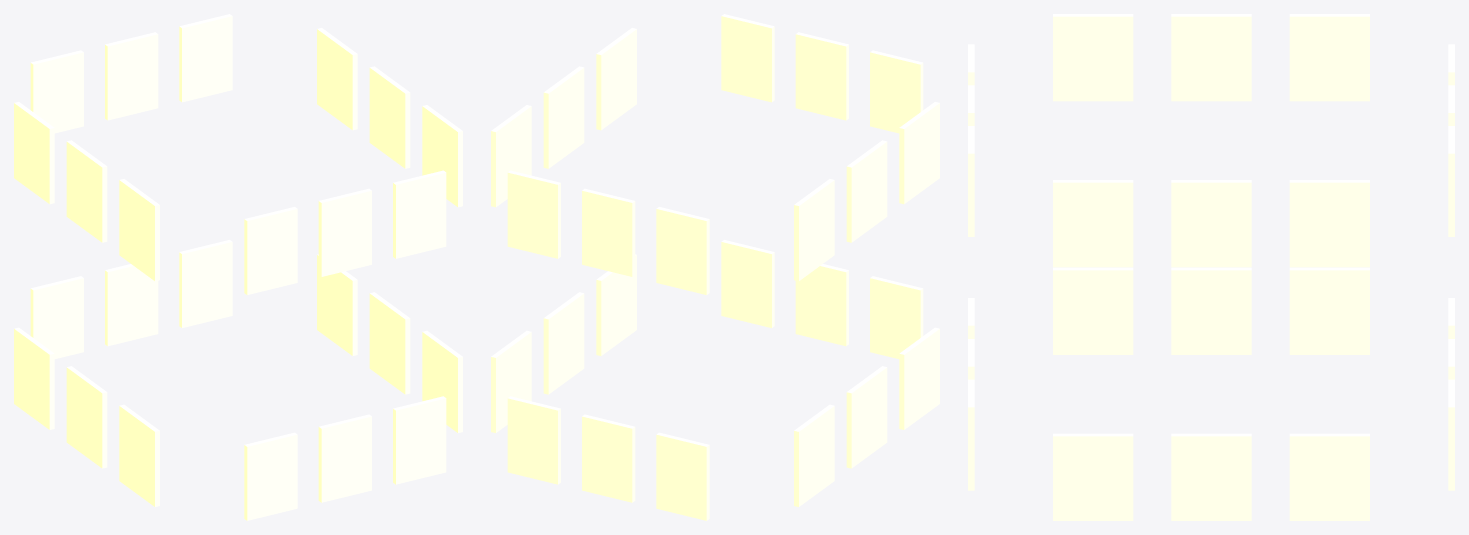
File: building-f.glb
3 renders of one model, left to right at view 1: azimuth 30°, elevation 25°; view 2: azimuth 150°, elevation 25°; view 3: azimuth 270°, elevation 25°, orthographic. The views are drawn at different scales.
Visible parts, largest first — view 1: WindowLight_back_1_2, WindowLight_front_0_0, WindowLight_front_1_2, WindowLight_back_0_2, WindowLight_front_1_0, WindowLight_front_1_1, WindowLight_back_1_1, WindowLight_front_0_1, WindowLight_front_0_2, WindowLight_back_0_1, WindowLight_back_0_0, WindowLight_back_1_0 (+12 smaller); view 2: WindowLight_back_0_0, WindowLight_back_1_2, WindowLight_front_1_2, WindowLight_back_1_0, WindowLight_back_1_1, WindowLight_front_0_2, WindowLight_back_0_1, WindowLight_back_0_2, WindowLight_front_1_1, WindowLight_front_0_1, WindowLight_front_0_0, WindowLight_front_1_0 (+12 smaller); view 3: WindowLight_left_0_1, WindowLight_left_1_1, WindowLight_right_0_1, WindowLight_right_1_1, WindowLight_left_0_0, WindowLight_left_0_2, WindowLight_left_1_0, WindowLight_left_1_2, WindowLight_right_0_0, WindowLight_right_0_2, WindowLight_right_1_0, WindowLight_right_1_2 (+4 smaller).
Part boxes in pixels (x1=…): WindowLight_back_1_2: x1=179, y1=14, x2=232, y2=102; WindowLight_front_0_0: x1=244, y1=432, x2=297, y2=520; WindowLight_front_1_2: x1=393, y1=170, x2=446, y2=258; WindowLight_back_0_2: x1=179, y1=240, x2=232, y2=327; WindowLight_front_1_0: x1=244, y1=207, x2=297, y2=294; WindowLight_front_1_1: x1=318, y1=188, x2=371, y2=276; WindowLight_back_1_1: x1=105, y1=32, x2=158, y2=120; WindowLight_front_0_1: x1=318, y1=414, x2=371, y2=502; WindowLight_front_0_2: x1=393, y1=396, x2=446, y2=484; WindowLight_back_0_1: x1=105, y1=264, x2=158, y2=346; WindowLight_back_0_0: x1=30, y1=276, x2=83, y2=358; WindowLight_back_1_0: x1=30, y1=50, x2=83, y2=133; WindowLight_back_0_0: x1=656, y1=432, x2=709, y2=520; WindowLight_back_1_2: x1=507, y1=170, x2=560, y2=258; WindowLight_front_1_2: x1=721, y1=14, x2=774, y2=102; WindowLight_back_1_0: x1=656, y1=207, x2=709, y2=294; WindowLight_back_1_1: x1=582, y1=188, x2=635, y2=276; WindowLight_front_0_2: x1=721, y1=240, x2=774, y2=327; WindowLight_back_0_1: x1=582, y1=414, x2=635, y2=502; WindowLight_back_0_2: x1=507, y1=396, x2=560, y2=484; WindowLight_front_1_1: x1=795, y1=32, x2=848, y2=120; WindowLight_front_0_1: x1=795, y1=264, x2=848, y2=346; WindowLight_front_0_0: x1=870, y1=276, x2=923, y2=358; WindowLight_front_1_0: x1=870, y1=50, x2=923, y2=133; WindowLight_left_0_1: x1=1171, y1=267, x2=1251, y2=354; WindowLight_left_1_1: x1=1171, y1=14, x2=1251, y2=101; WindowLight_right_0_1: x1=1171, y1=433, x2=1251, y2=520; WindowLight_right_1_1: x1=1171, y1=180, x2=1251, y2=267; WindowLight_left_0_0: x1=1053, y1=267, x2=1133, y2=354; WindowLight_left_0_2: x1=1289, y1=267, x2=1369, y2=354; WindowLight_left_1_0: x1=1053, y1=14, x2=1133, y2=101; WindowLight_left_1_2: x1=1289, y1=14, x2=1369, y2=101; WindowLight_right_0_0: x1=1053, y1=433, x2=1133, y2=520; WindowLight_right_0_2: x1=1289, y1=433, x2=1369, y2=520; WindowLight_right_1_0: x1=1053, y1=180, x2=1133, y2=267; WindowLight_right_1_2: x1=1289, y1=180, x2=1369, y2=267.
Bounding box in the file's own units: 0.87 × 0.8126 × 1.06.
